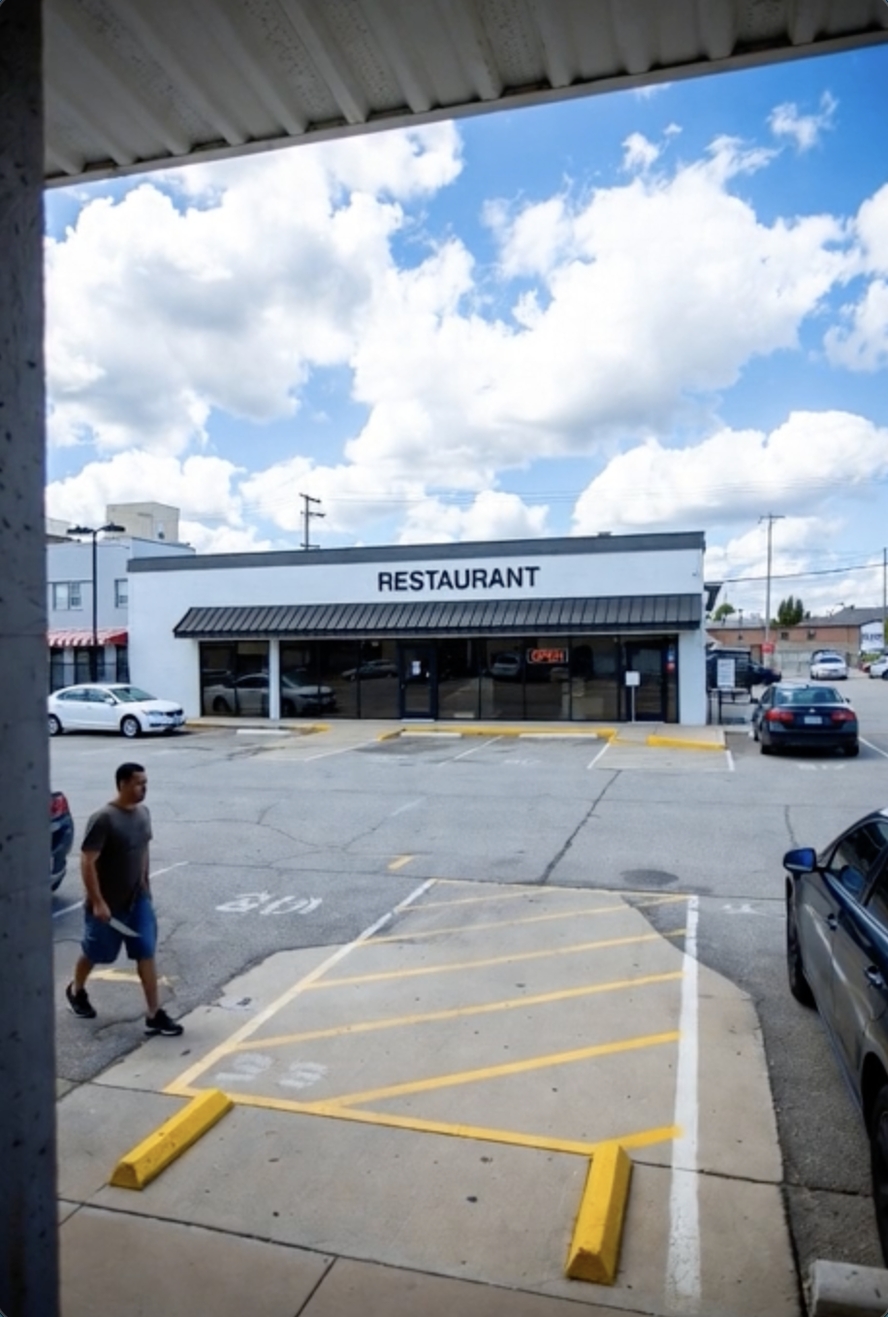Heavy Gun: (68, 758, 189, 1043)
Knife: (92, 903, 146, 943)
